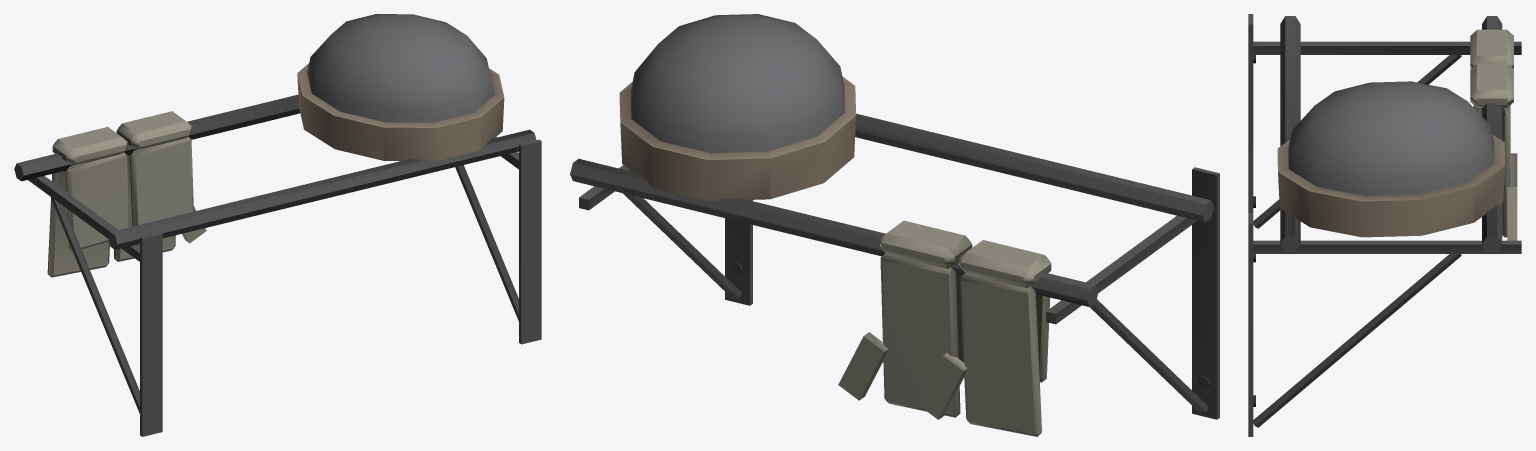
Rendered from stove_pipe_rack.glb.
The picture shows the model from 3 angles, left to right: view 1: azimuth 30°, elevation 25°; view 2: azimuth 150°, elevation 25°; view 3: azimuth 270°, elevation 25°; orthographic projection. The views are drawn at different scales.
Parts seen in each view (by area): view 1: static; view 2: static; view 3: static.
Boxes of the visible parts, x1,y1,x2,y2 form: static: (14, 14, 541, 436); static: (570, 14, 1219, 436); static: (1248, 14, 1521, 436).
Size of the model in its own units: 0.6201 by 0.398 by 0.325.
